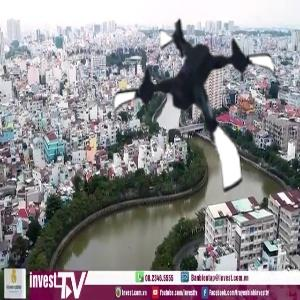drone: (106, 14, 291, 199)
